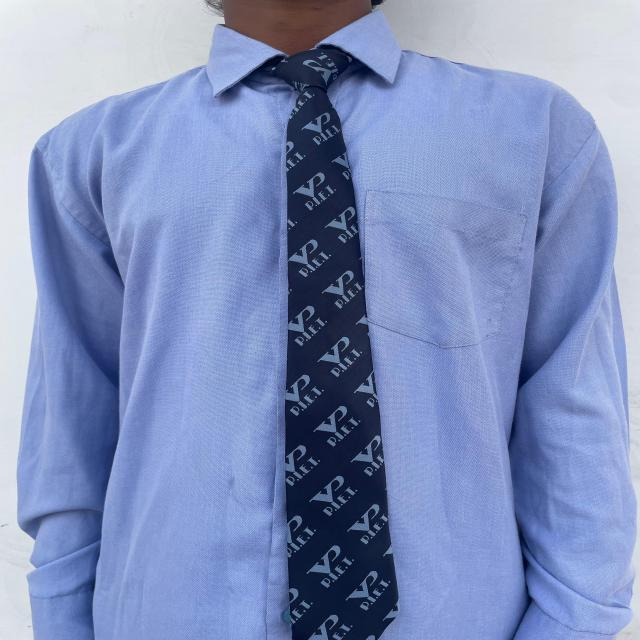Tie: (256, 45, 399, 639)
uniform: (15, 11, 636, 638)
